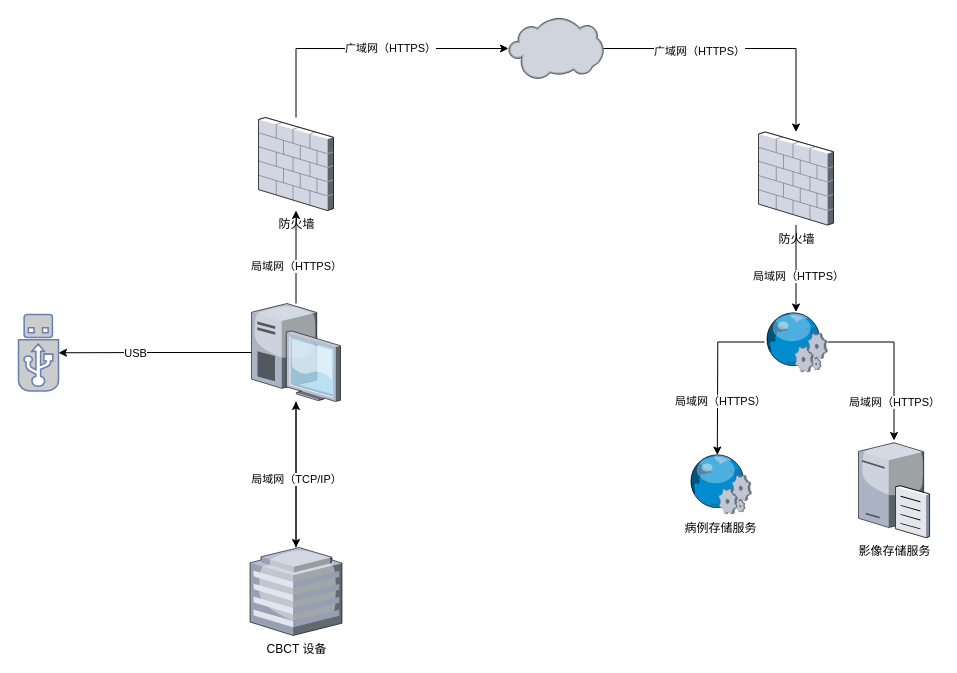
This 957x673 diagram has some shape labels left out. Each missing label, with the centre of its shape:
"电脑" goes at (x=295, y=352).
"负载均衡服务" goes at (x=795, y=342).
"运营商网络" goes at (x=555, y=48).
